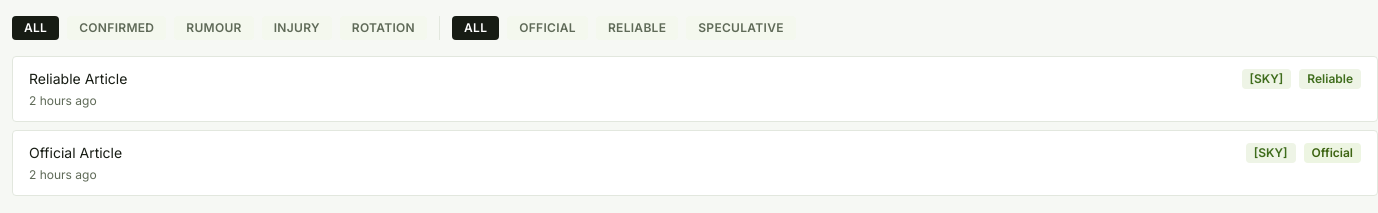
SummerWindowTab — Phase 131 SPEC-01/02/03 › Test 17 — clicking Reliable tier pill filters to Reliable articles only
What coordinates should you click on to do the following:
click the tab "Reliable"
I would click on:
 (637, 28)
Its box is [596,16,678,40].
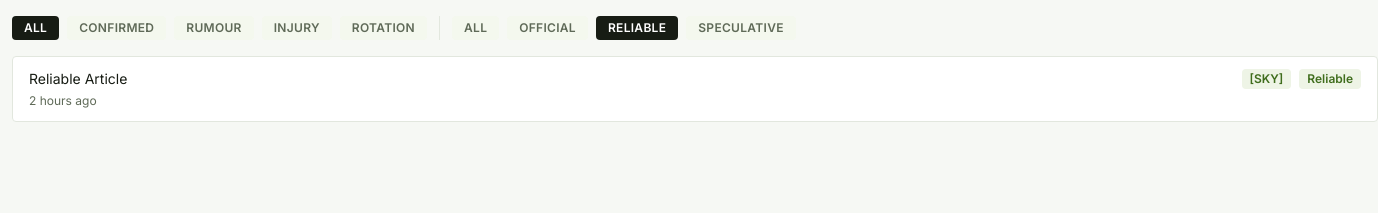
Expected: the link "Reliable Article" is shown, [29,70,127,87]
Expected: the link "Official Article" is gone
